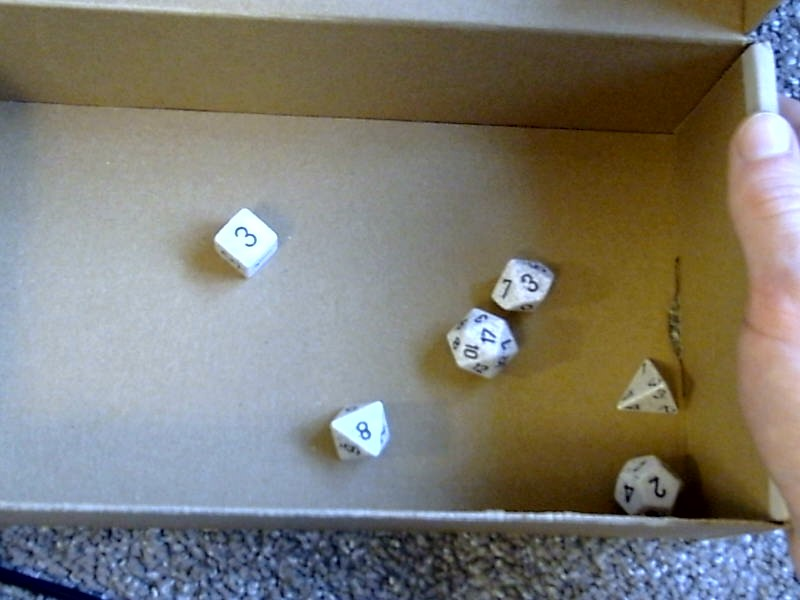d10 3: (491, 252, 566, 316)
d12 2: (611, 450, 689, 521)
d20 17: (432, 305, 517, 393)
d4 3: (610, 356, 681, 421)
d6 3: (203, 203, 287, 279)
d8 8: (322, 396, 397, 469)
